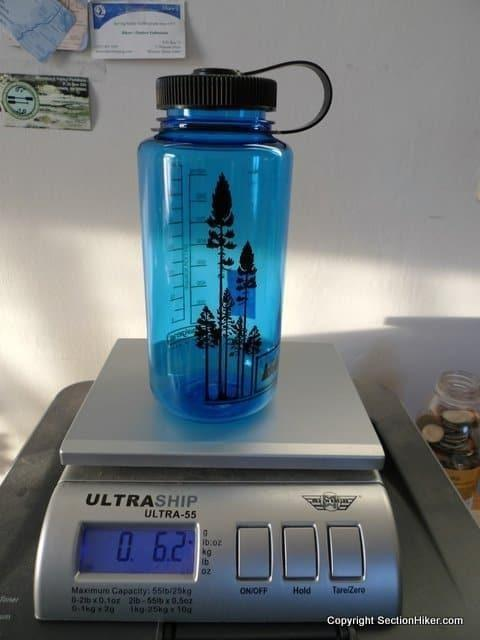gym bottle: (136, 63, 295, 425)
